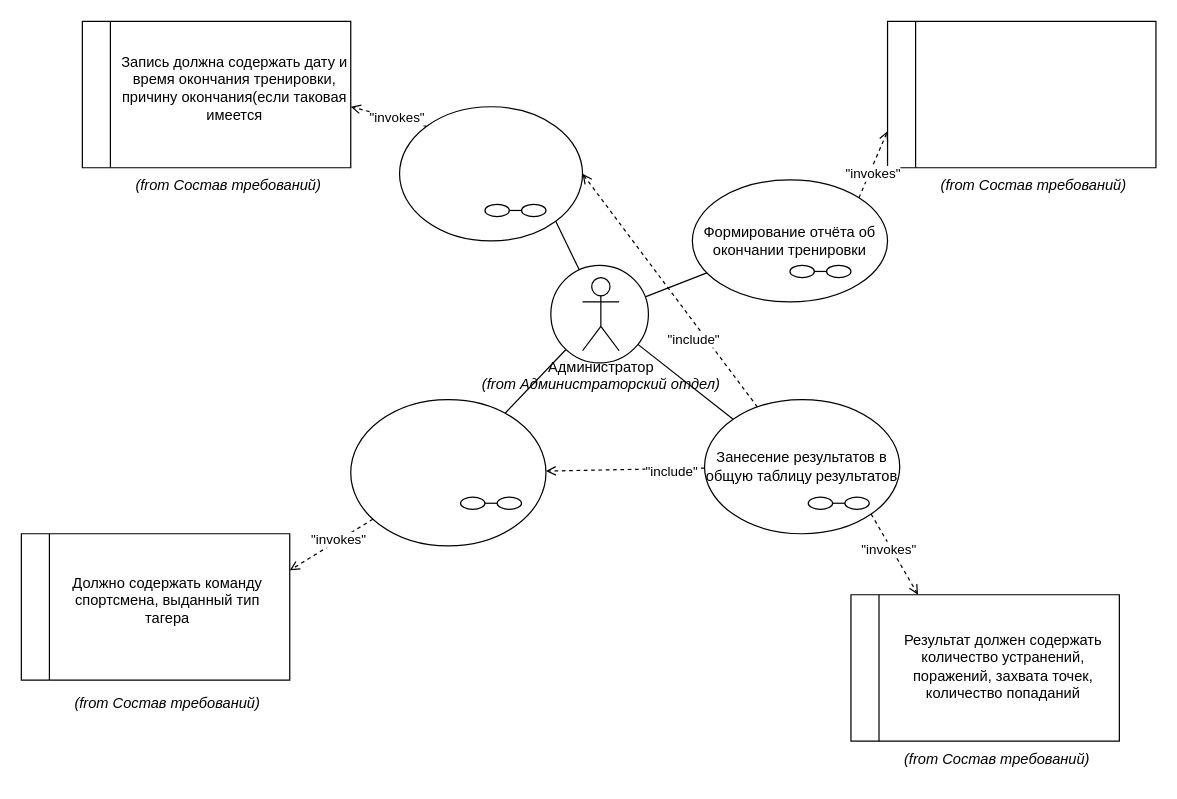
The diagram is 1177 pixels wide and 799 high, and some of its shapes have lost their labels. Here are the shapes that lost their labels. From the top down, the box of each, then its label:
(886, 20, 1156, 168): Отчёт должен соответствовать стандартам оформления отчёта окончанных тренировок
(398, 106, 583, 241): Запись об окончании тренировки
(350, 398, 546, 546): Регистрация спортсмена в электронной системе
